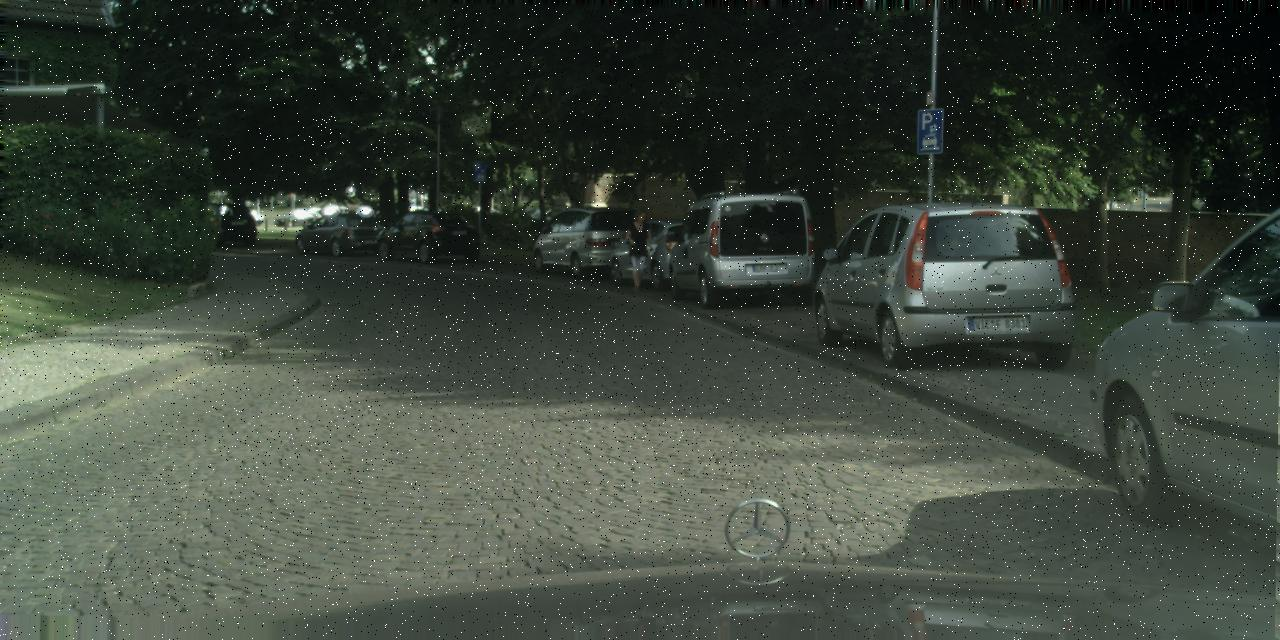ped: (622, 210, 656, 290)
